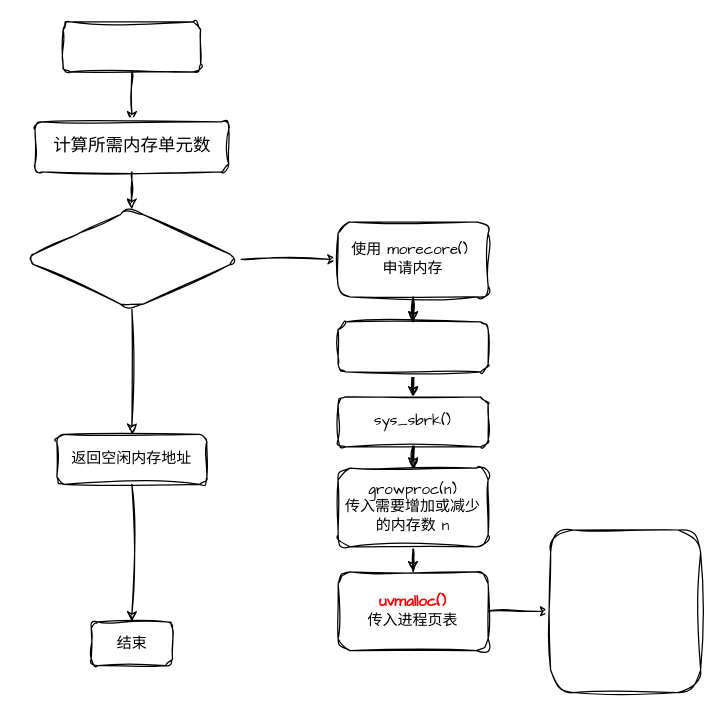
The diagram is 723 pixels wide and 715 high, and some of its shapes have lost their labels. The box of each missing label's shape, as (x1, y1, x2, y2) in pixels:
1. kalloc() 分配实际物理内存 2. mappages ()将物理地址映射到进程虚拟地址空间 3. 返回新地址: (549, 529, 701, 692)
malloc(): (62, 21, 201, 72)
sbrk() 系统调用: (337, 321, 488, 372)
遍历空闲链表查找: (21, 208, 241, 309)
